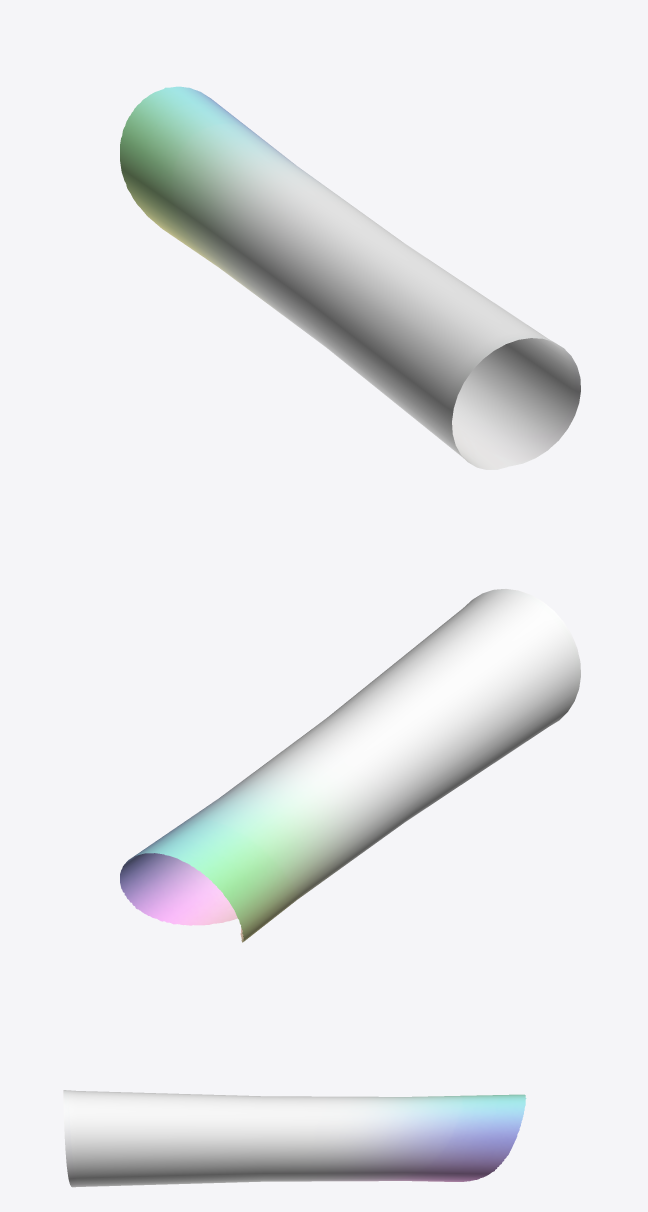
Rendered from FX_TunnelPassColor.fbx.
The picture shows the model from 3 angles, top to bottom: view 1: azimuth 30°, elevation 25°; view 2: azimuth 150°, elevation 25°; view 3: azimuth 270°, elevation 25°; orthographic projection. The views are drawn at different scales.
Parts seen in each view (by area): view 1: TunnelPassColorMesh; view 2: TunnelPassColorMesh; view 3: TunnelPassColorMesh.
Boxes of the visible parts, bbox=[...] form: TunnelPassColorMesh: bbox=[120, 86, 580, 469]; TunnelPassColorMesh: bbox=[120, 589, 580, 942]; TunnelPassColorMesh: bbox=[63, 1090, 526, 1187].
Size of the model in its own units: 1.84 by 1.84 by 9.69.
